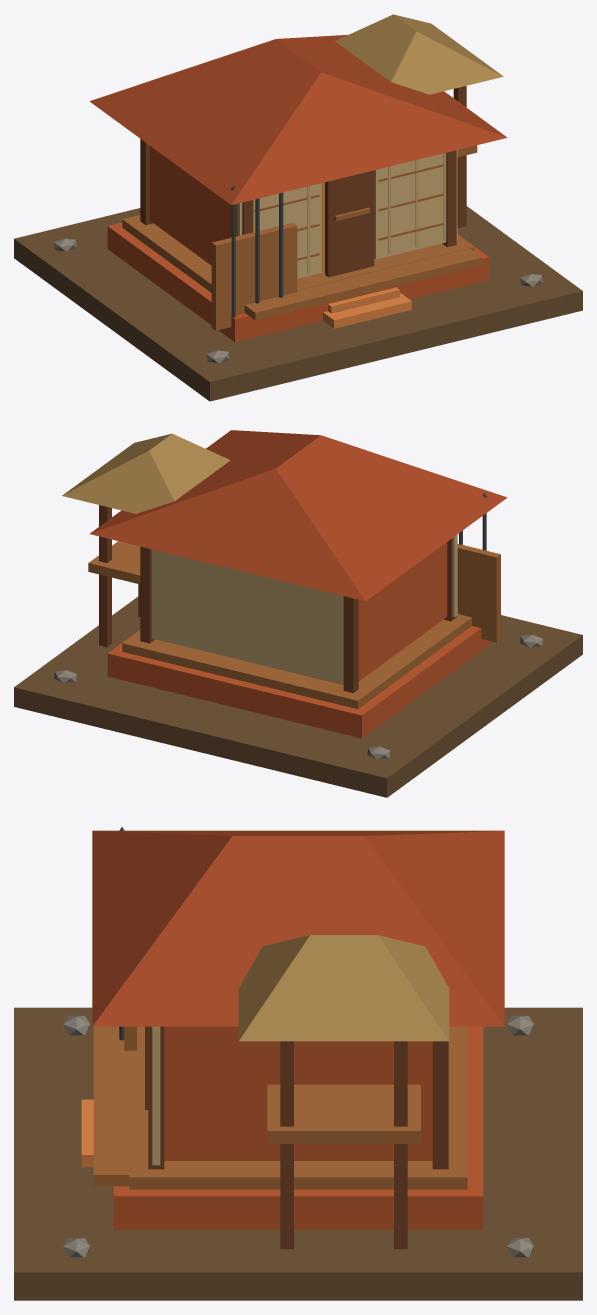
Rendered from village_guard_house.glb.
3 views of the same model, one above another, from view 1: azimuth 30°, elevation 25°; view 2: azimuth 150°, elevation 25°; view 3: azimuth 270°, elevation 25° (orthographic). The views are drawn at different scales.
Parts seen in each view (by area): view 1: GuardHouseRoof, Building_Base, WatchRoof, GuardHousePlatform, SpearRack, GuardHouseFrontPanel.001, GuardHouseSideWall, GuardHouseDoor, GuardHousePorch, GuardHouseFloor, GuardHouseFrontPanel, BrickStep (+7 smaller); view 2: GuardHouseRoof, Building_Base, GuardHouseRearPanel, GuardHousePlatform, GuardHouseFloor, WatchRoof, GuardHouseSideWall, SpearRack, GuardHousePost.001, WatchPost.003, WatchPlatform, GuardHousePost.003 (+2 smaller); view 3: Building_Base, GuardHouseRoof, GuardHouseSideWall.001, WatchRoof, GuardHousePlatform, GuardHouseFloor, WatchPlatform, GuardHousePorch, WatchPost.002, WatchPost.003, GuardHousePost.003, GuardHousePost.002 (+2 smaller).
Boxes of the visible parts, bbox=[...] form: GuardHouseRoof: bbox=[89, 34, 507, 204]; Building_Base: bbox=[14, 206, 582, 401]; WatchRoof: bbox=[335, 14, 503, 94]; GuardHousePlatform: bbox=[107, 222, 489, 342]; SpearRack: bbox=[211, 223, 297, 330]; GuardHouseFrontPanel.001: bbox=[374, 150, 457, 259]; GuardHouseSideWall: bbox=[149, 146, 237, 265]; GuardHouseDoor: bbox=[325, 170, 374, 277]; GuardHousePorch: bbox=[244, 248, 482, 320]; GuardHouseFloor: bbox=[122, 182, 474, 292]; GuardHouseFrontPanel: bbox=[237, 183, 321, 278]; BrickStep: bbox=[323, 293, 411, 328]; GuardHouseRoof: bbox=[90, 430, 507, 601]; Building_Base: bbox=[14, 596, 582, 797]; GuardHouseRearPanel: bbox=[151, 549, 343, 684]; GuardHousePlatform: bbox=[107, 626, 489, 738]; GuardHouseFloor: bbox=[122, 614, 471, 709]; WatchRoof: bbox=[62, 433, 230, 513]; GuardHouseSideWall: bbox=[358, 542, 447, 680]; SpearRack: bbox=[457, 544, 500, 642]; GuardHousePost.001: bbox=[343, 596, 358, 692]; WatchPost.003: bbox=[99, 505, 111, 647]; WatchPlatform: bbox=[88, 541, 140, 584]; GuardHousePost.003: bbox=[140, 546, 154, 643]; Building_Base: bbox=[14, 1007, 582, 1300]; GuardHouseRoof: bbox=[92, 830, 504, 1026]; GuardHouseSideWall.001: bbox=[164, 1026, 432, 1160]; WatchRoof: bbox=[238, 935, 449, 1041]; GuardHousePlatform: bbox=[113, 1026, 483, 1229]; GuardHouseFloor: bbox=[129, 1026, 467, 1189]; WatchPlatform: bbox=[267, 1084, 420, 1143]; GuardHousePorch: bbox=[93, 1026, 129, 1186]; WatchPost.002: bbox=[280, 1041, 293, 1249]; WatchPost.003: bbox=[394, 1041, 407, 1249]; GuardHousePost.003: bbox=[432, 1041, 448, 1169]; GuardHousePost.002: bbox=[148, 1026, 164, 1169].
Bounding box in the file's own units: 11 × 6.44 × 10.
